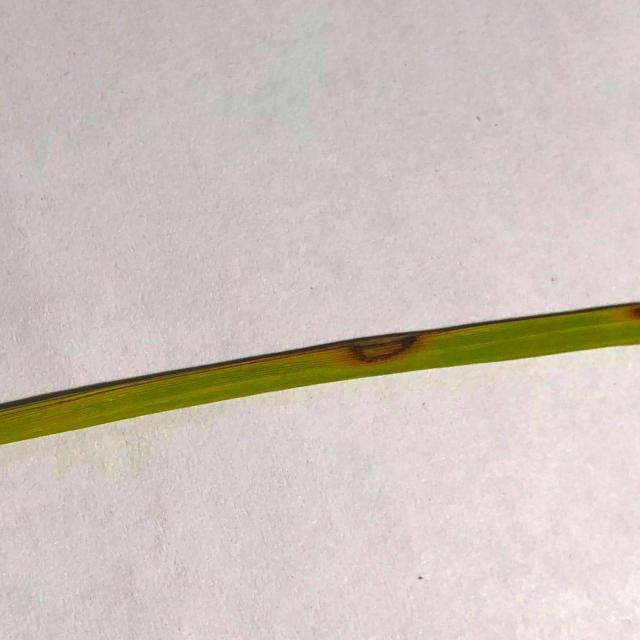Leaf blast: (307, 339, 472, 368)
